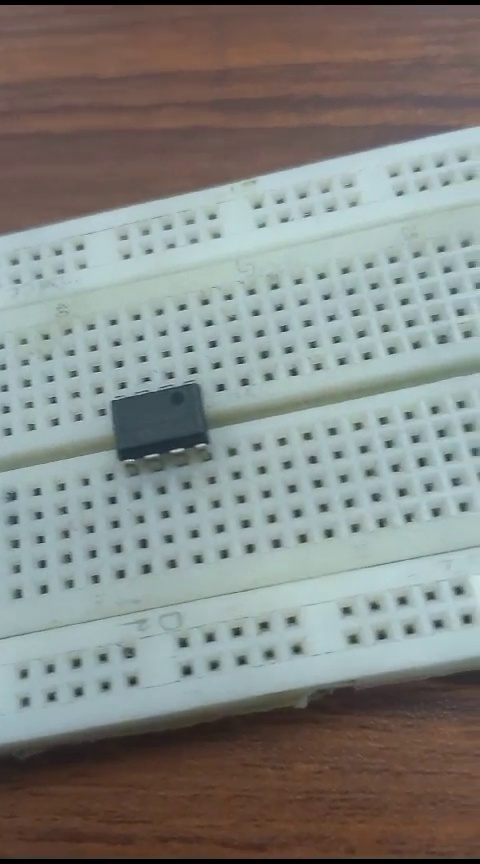IC: (106, 380, 212, 467)
